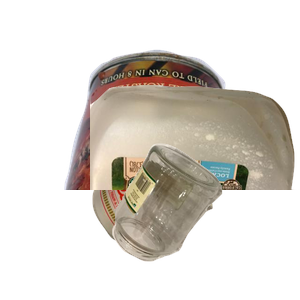glass: (110, 141, 300, 300)
metal: (62, 47, 300, 227)
plastic: (90, 82, 300, 262)
trash: (90, 129, 295, 300)
